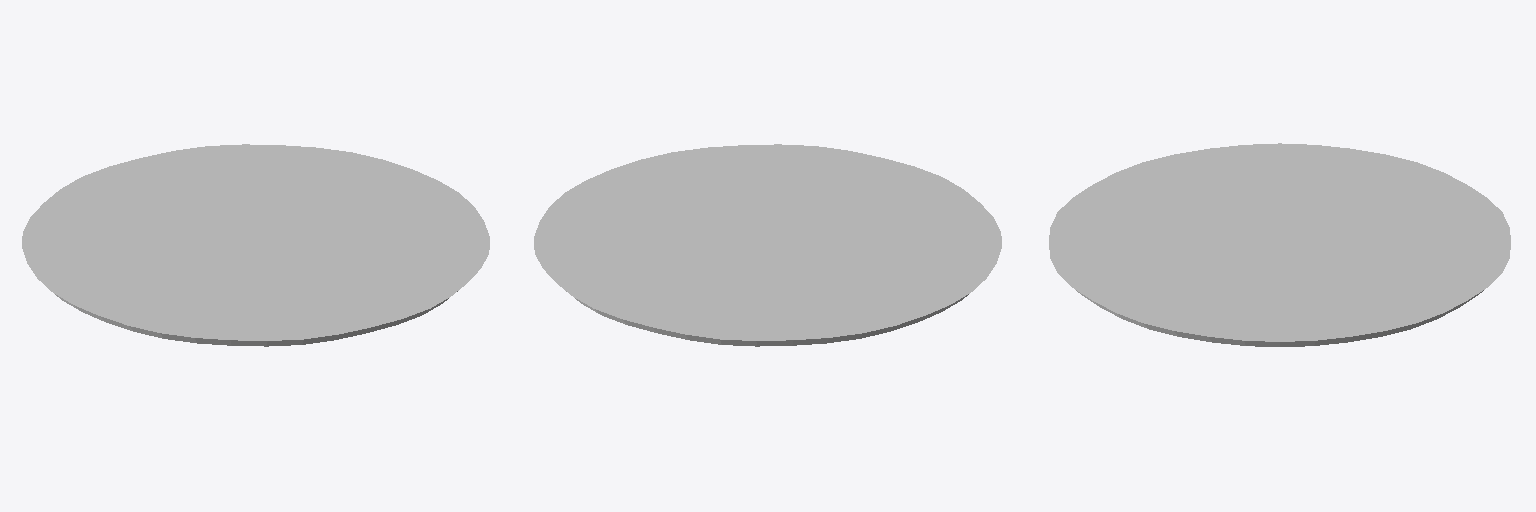
Rendered from frying_pan_fill.obj.
The picture shows the model from 3 angles: view 1: azimuth 30°, elevation 25°; view 2: azimuth 150°, elevation 25°; view 3: azimuth 270°, elevation 25°; orthographic projection.
Parts seen in each view (by area): view 1: Fill_Cylinder.001; view 2: Fill_Cylinder.001; view 3: Fill_Cylinder.001.
Boxes of the visible parts, box(x1,y1,x2,y2) form: Fill_Cylinder.001: box(22, 144, 489, 346); Fill_Cylinder.001: box(534, 144, 1001, 346); Fill_Cylinder.001: box(1049, 143, 1510, 346).
Bounding box in the file's own units: 7.47 × 0.4643 × 7.35.